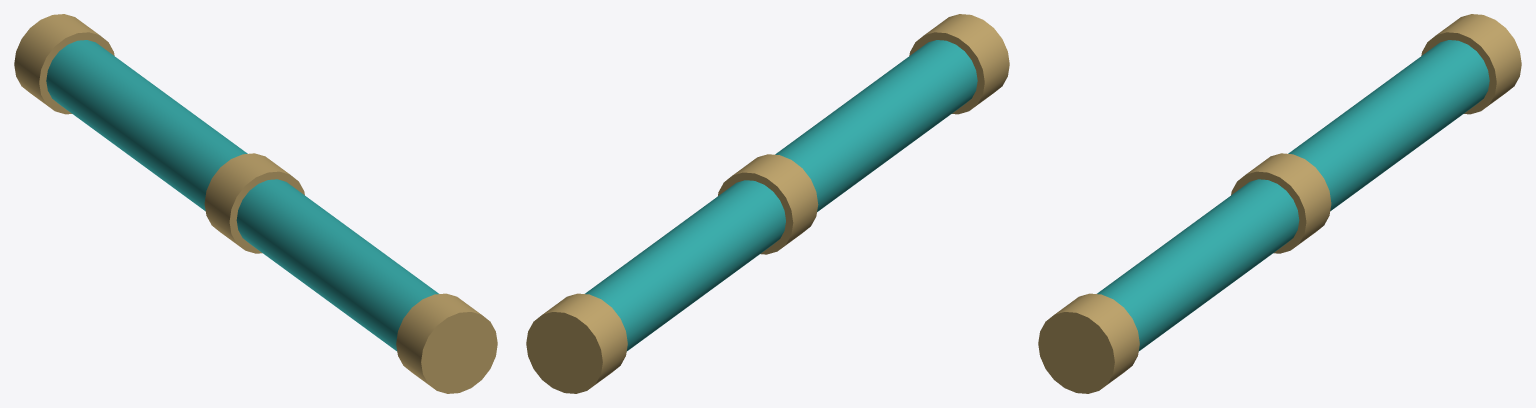
The model's file is wire 2.fbx.
3 views of the same model, side by side, from view 1: azimuth 30°, elevation 25°; view 2: azimuth 150°, elevation 25°; view 3: azimuth 330°, elevation 25° (orthographic).
Parts seen in each view (by area): view 1: pCylinder5, pCylinder8, pCylinder7, pCylinder6; view 2: pCylinder5, pCylinder7, pCylinder8, pCylinder6; view 3: pCylinder5, pCylinder8, pCylinder7, pCylinder6.
Part boxes in pixels (bbox=[...]): pCylinder5: bbox=[46, 40, 438, 351]; pCylinder8: bbox=[396, 293, 497, 393]; pCylinder7: bbox=[14, 14, 114, 114]; pCylinder6: bbox=[204, 153, 304, 253]; pCylinder5: bbox=[585, 40, 977, 351]; pCylinder7: bbox=[526, 293, 627, 393]; pCylinder8: bbox=[909, 14, 1009, 114]; pCylinder6: bbox=[718, 154, 818, 254]; pCylinder5: bbox=[1097, 40, 1489, 351]; pCylinder8: bbox=[1038, 293, 1139, 393]; pCylinder7: bbox=[1421, 14, 1521, 114]; pCylinder6: bbox=[1231, 153, 1331, 253].
Size of the model in its own units: 0.5881 by 0.5881 by 5.4.
